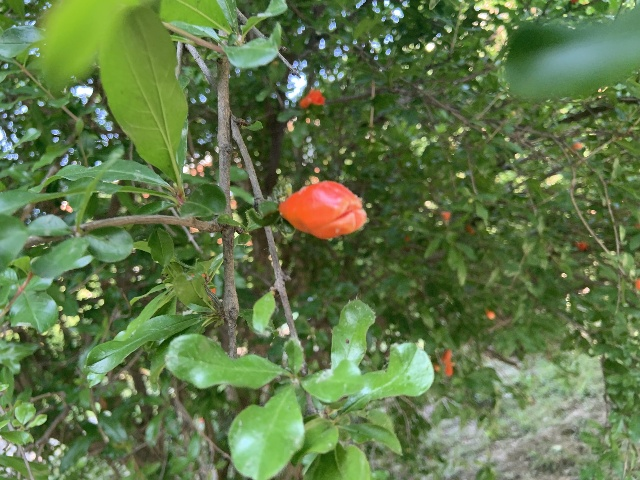bud: (278, 181, 366, 239)
flower: (433, 349, 454, 376), (300, 88, 324, 107)
